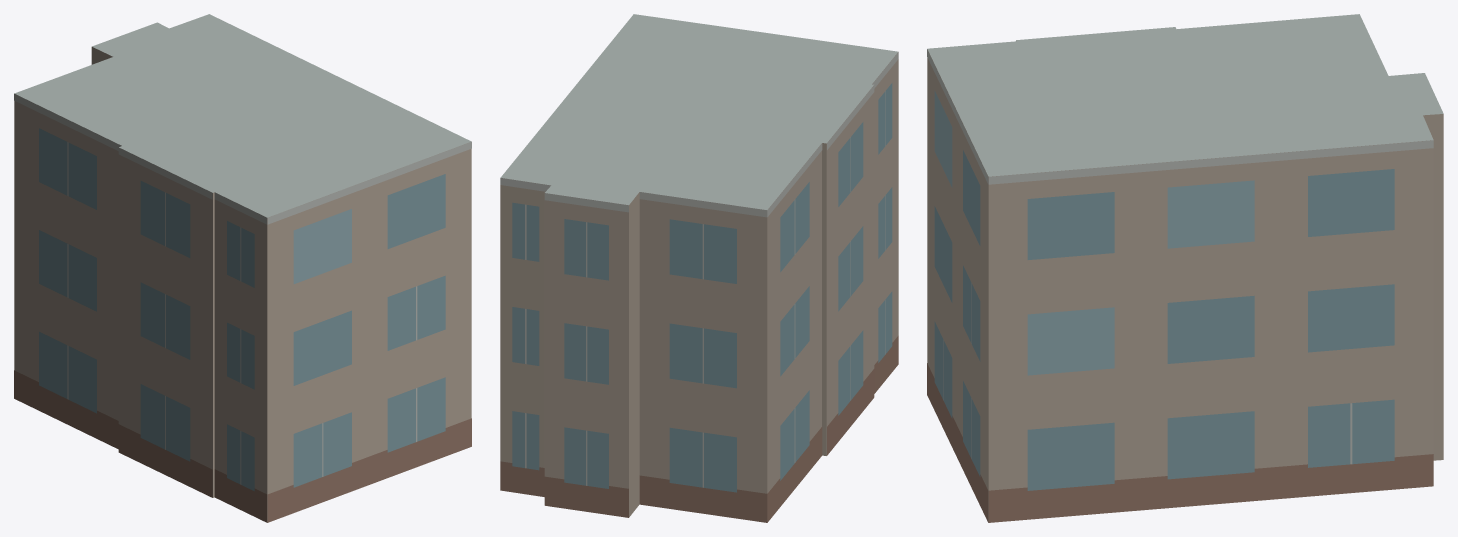
The model's file is survey-upis-32672529.glb.
3 views of the same model, side by side, from view 1: azimuth 30°, elevation 25°; view 2: azimuth 150°, elevation 25°; view 3: azimuth 270°, elevation 25° (orthographic). The views are drawn at different scales.
Visible parts, largest first — view 1: survey-upis-32672529.tmp; view 2: survey-upis-32672529.tmp; view 3: survey-upis-32672529.tmp.
Part boxes in pixels (left/top/right/bottom): survey-upis-32672529.tmp: left=14, top=14, right=471, bottom=522; survey-upis-32672529.tmp: left=500, top=14, right=898, bottom=522; survey-upis-32672529.tmp: left=927, top=14, right=1443, bottom=522.
Size of the model in its own units: 10.65 by 10.55 by 14.28.
